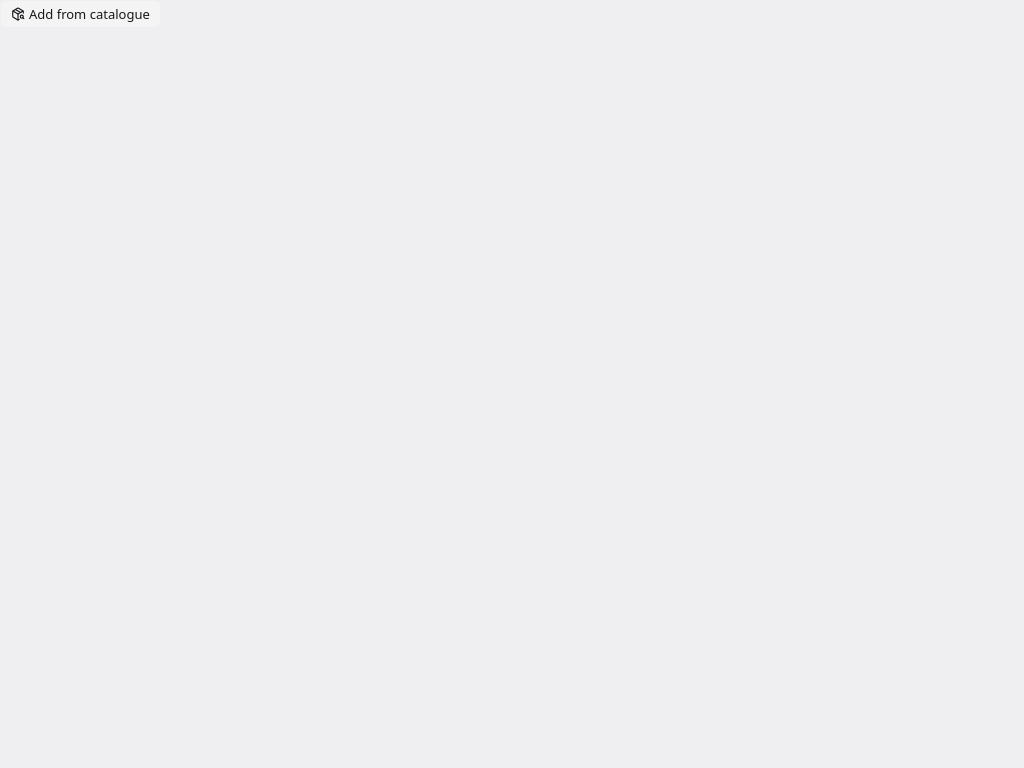
Test case: a member who may not manage the catalogue is not offered a new item
The image size is (1024, 768).
Click the button "Add from catalogue". click: [80, 14]
box: [0, 0, 161, 28]
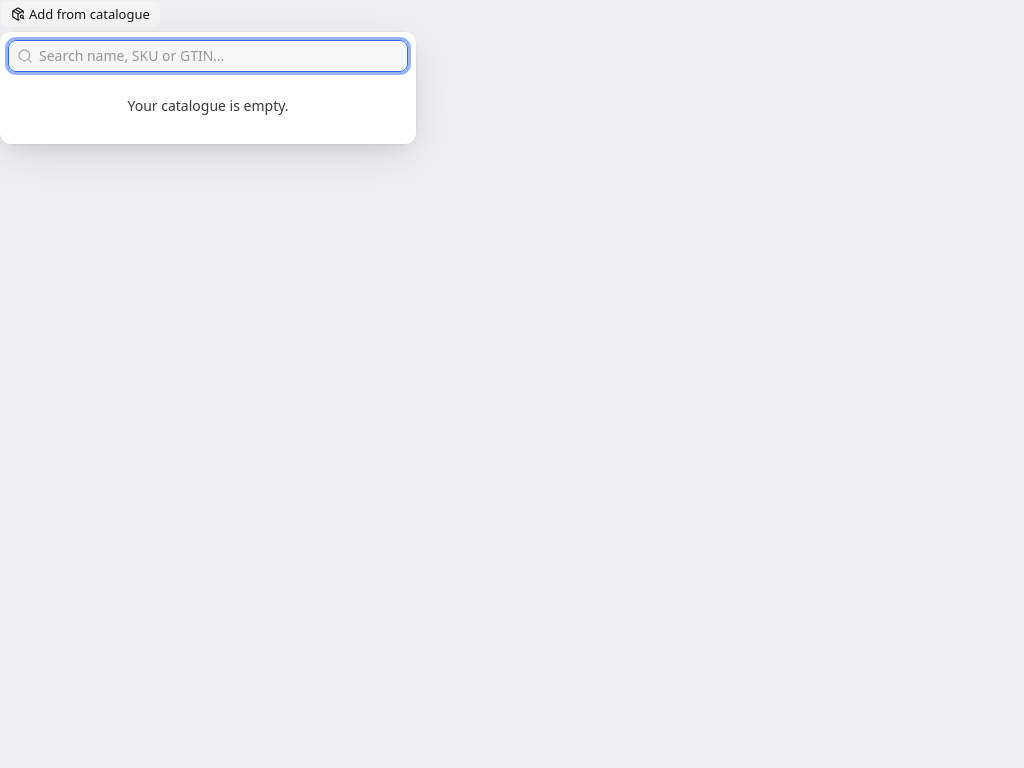
Result: the text "Your catalogue is empty." is shown at [128, 96, 289, 115]
